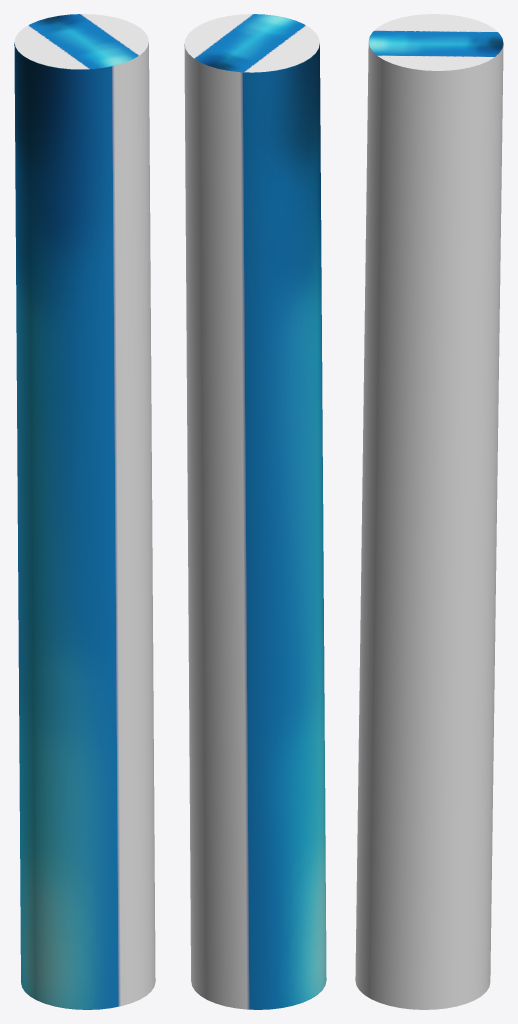
Rendered from laser.dae.
3 views of the same model, side by side, from view 1: azimuth 30°, elevation 25°; view 2: azimuth 150°, elevation 25°; view 3: azimuth 270°, elevation 25° (orthographic).
Visible parts, largest first — view 1: 円柱; view 2: 円柱; view 3: 円柱.
Part boxes in pixels (x1=…): 円柱: x1=14, y1=14, x2=155, y2=1009; 円柱: x1=184, y1=14, x2=326, y2=1009; 円柱: x1=355, y1=14, x2=503, y2=1009.
Bounding box in the file's own units: 57.83 × 445 × 63.46.
1 material, 1 textured.
